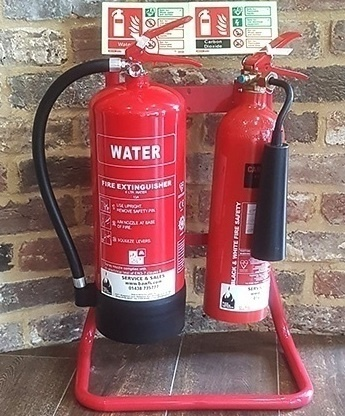fire_extinguisher: (32, 14, 206, 345), (202, 31, 310, 324)
